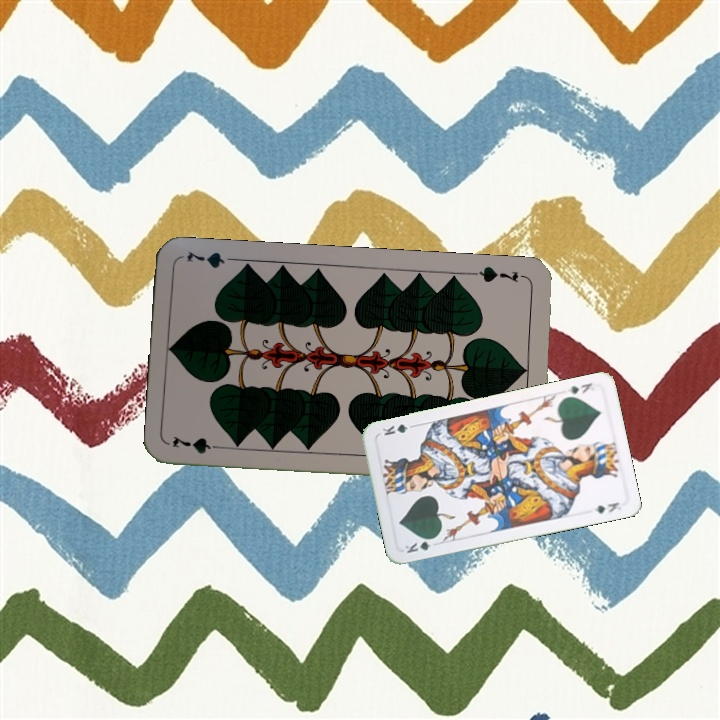G7: (168, 432, 227, 456), (469, 262, 528, 285)
GK: (401, 534, 439, 556), (563, 379, 597, 397)
